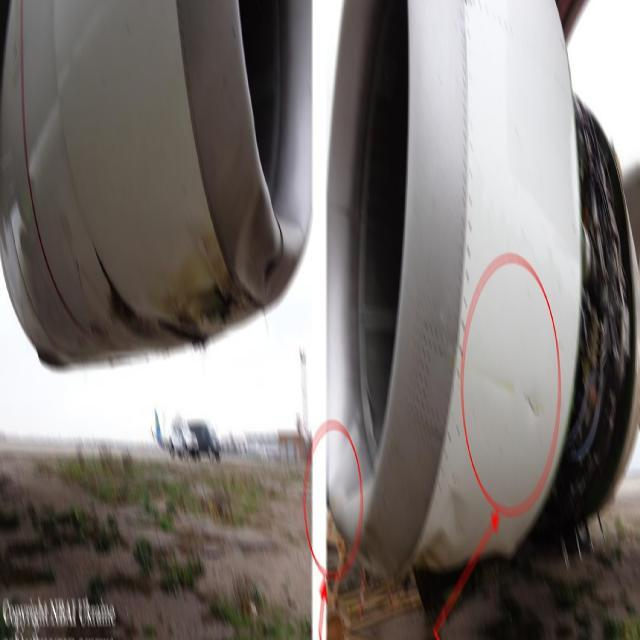crack: (522, 385, 544, 425)
dent: (418, 484, 472, 577)
